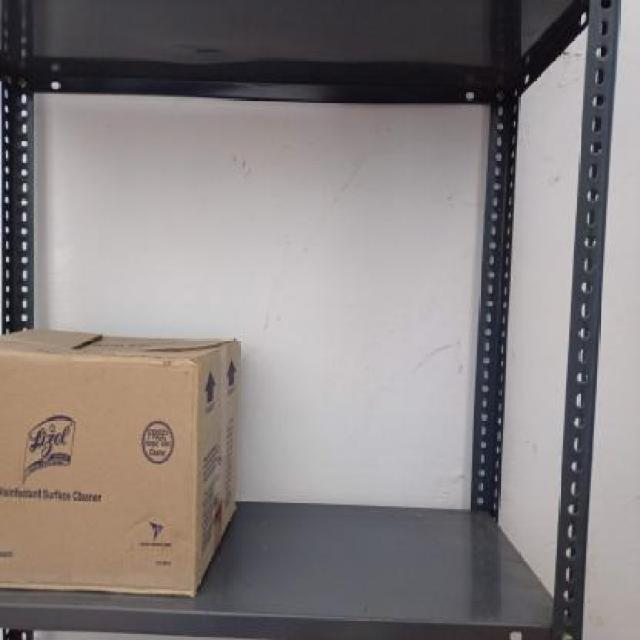box: (0, 355, 200, 591)
